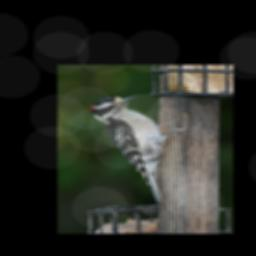Woodpecker: (89, 95, 188, 208)
